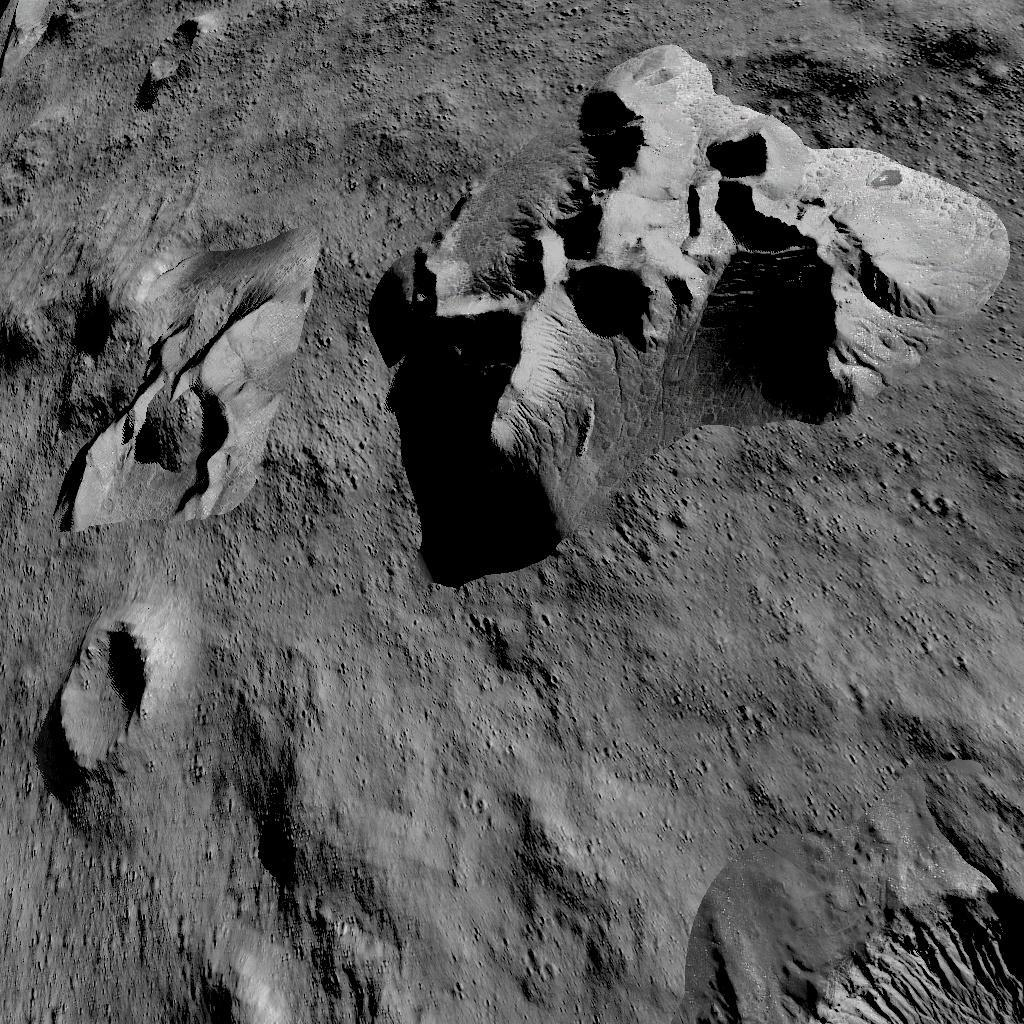Boulders: (342, 34, 994, 586)
Crater: (3, 266, 286, 540), (755, 876, 1024, 1024), (32, 594, 184, 814), (0, 0, 113, 82), (140, 6, 226, 91)
Plan surface: (211, 633, 721, 1024), (748, 618, 1024, 832), (8, 109, 330, 248)
